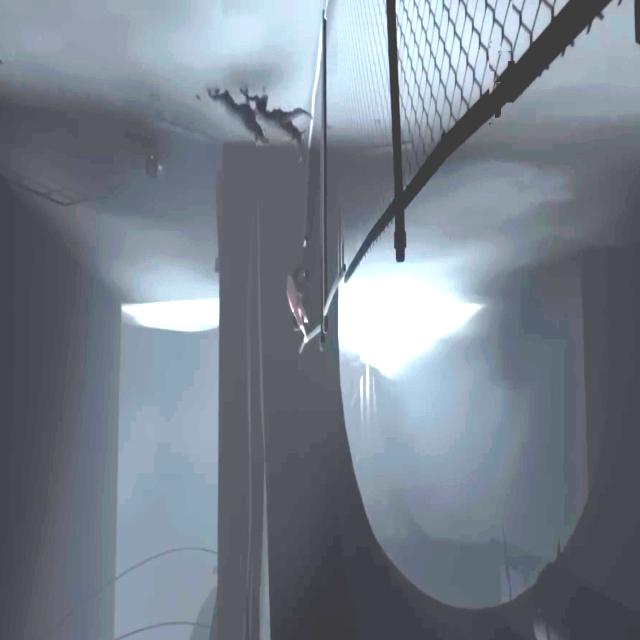boy: (286, 235, 310, 344)
dog: (238, 86, 312, 164), (208, 88, 270, 148), (144, 143, 160, 178)
